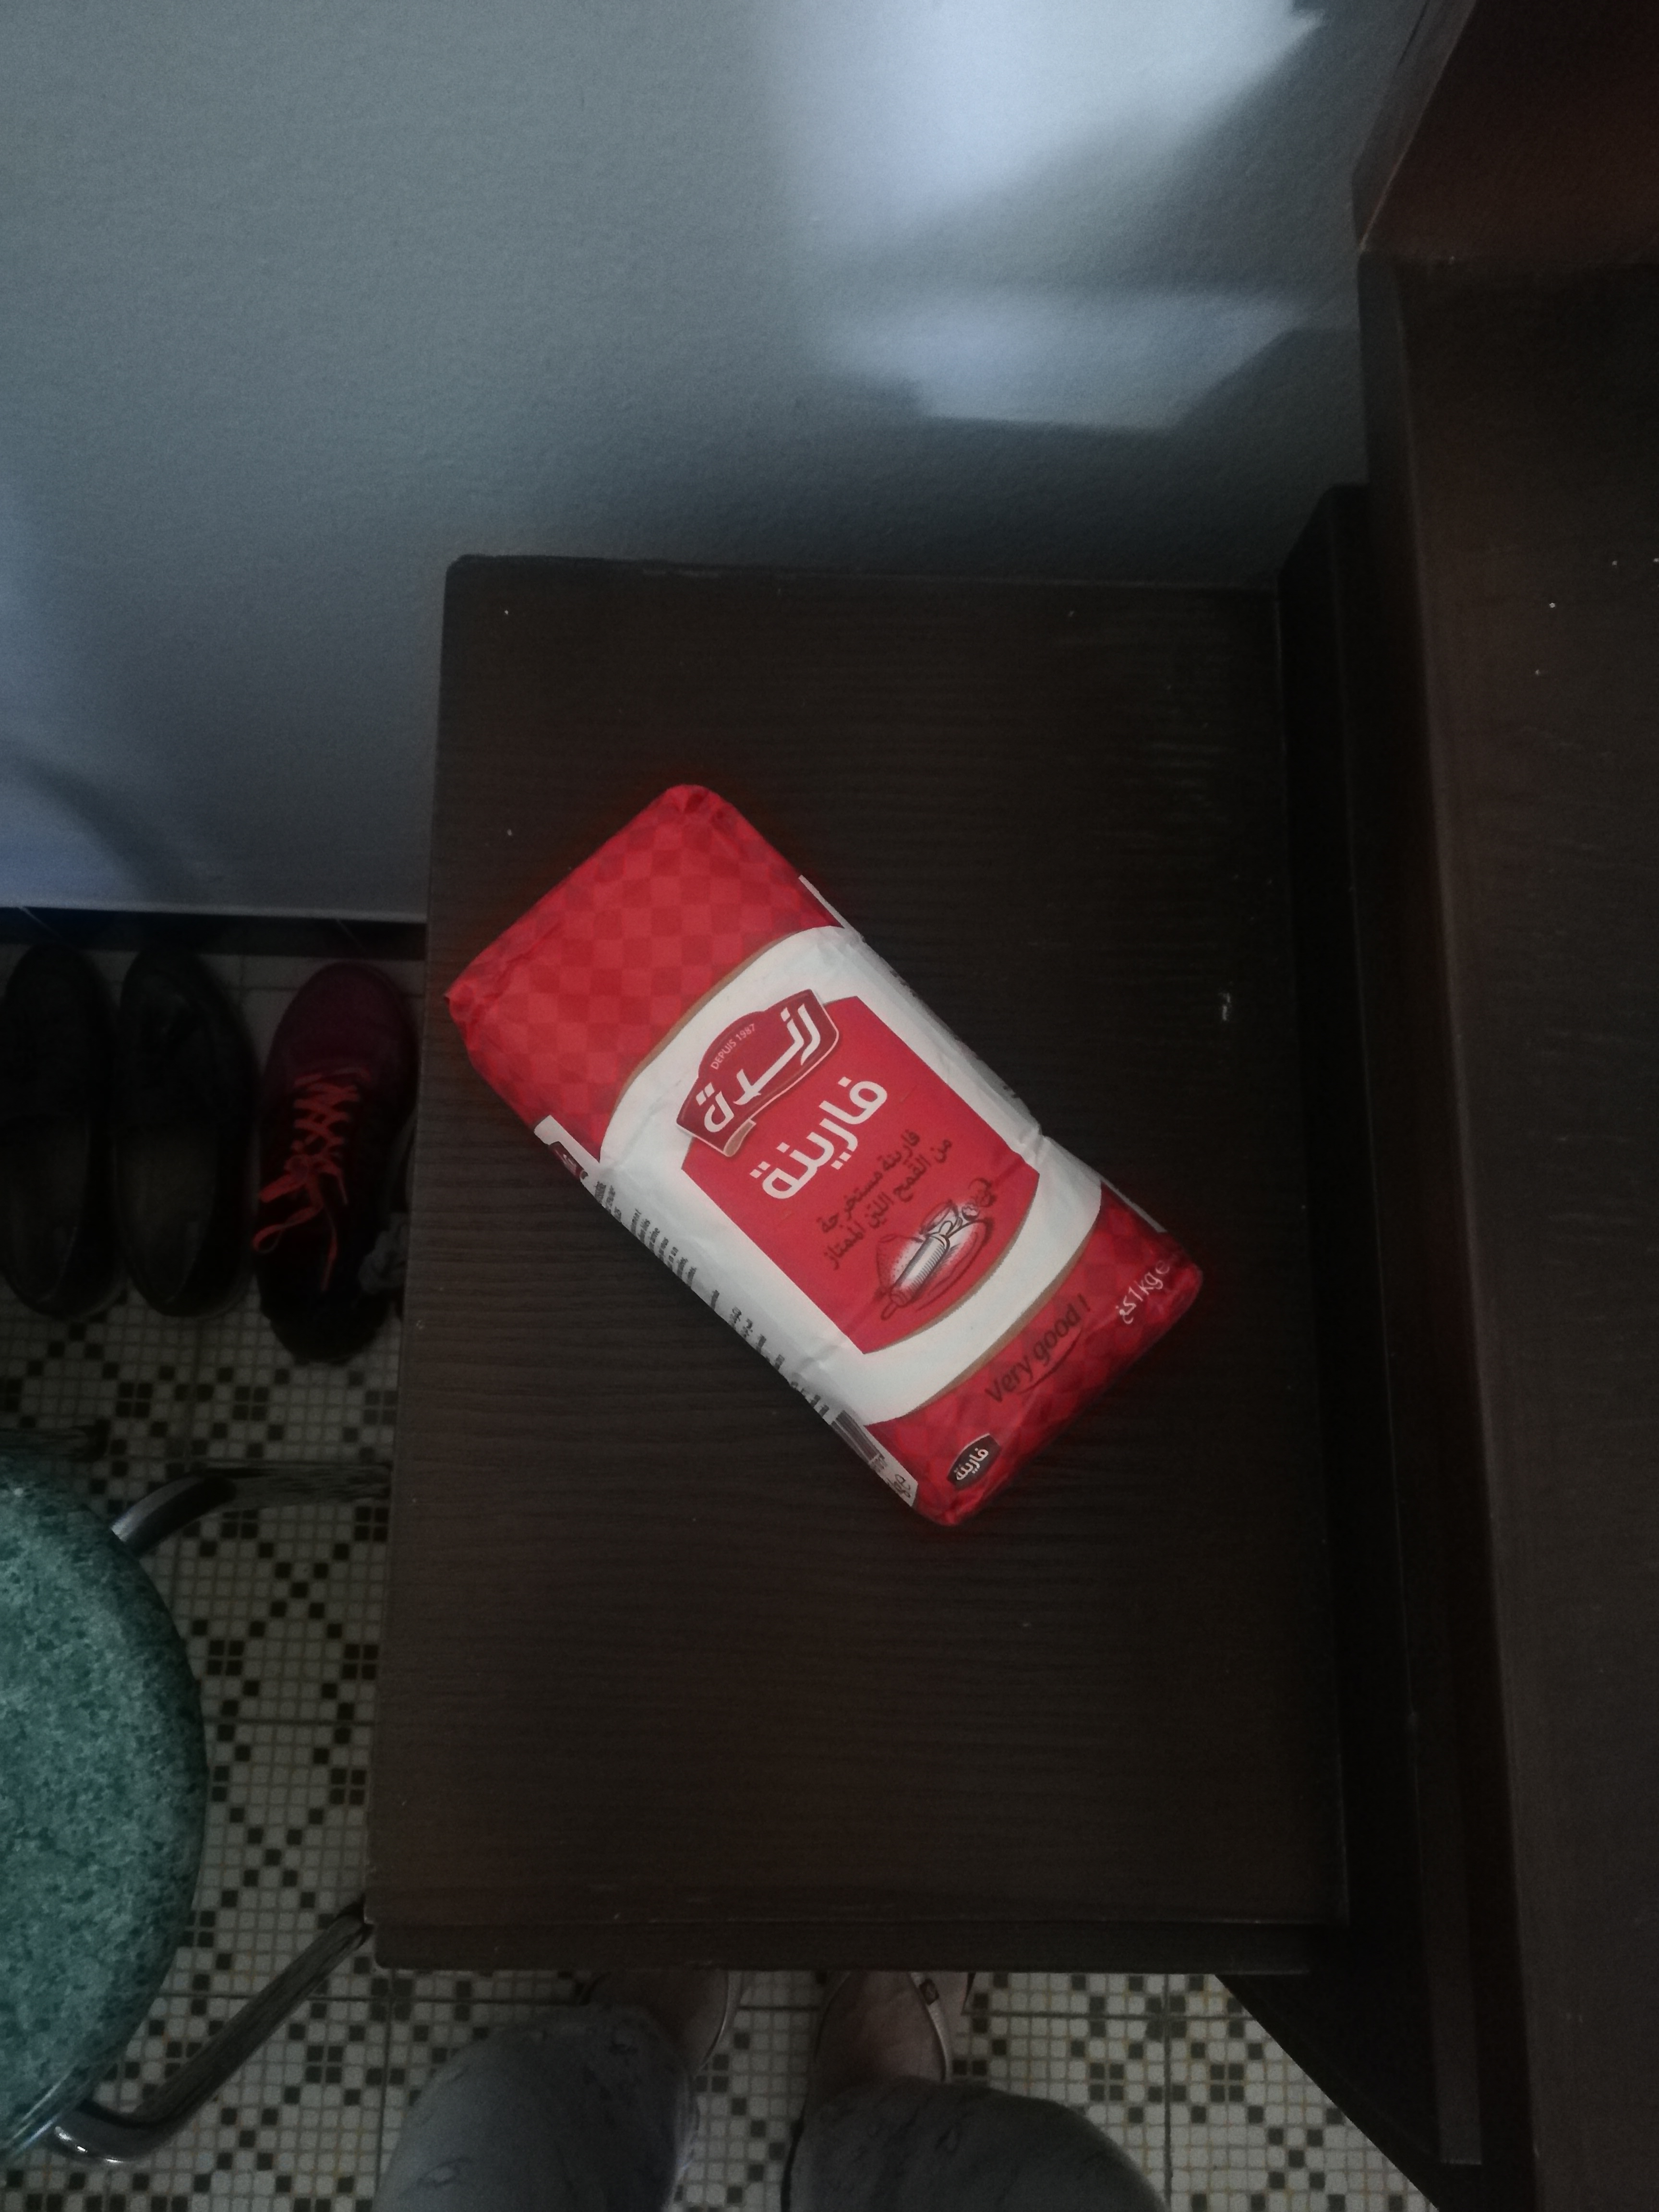Farine Randa: (444, 773, 1209, 1534)
